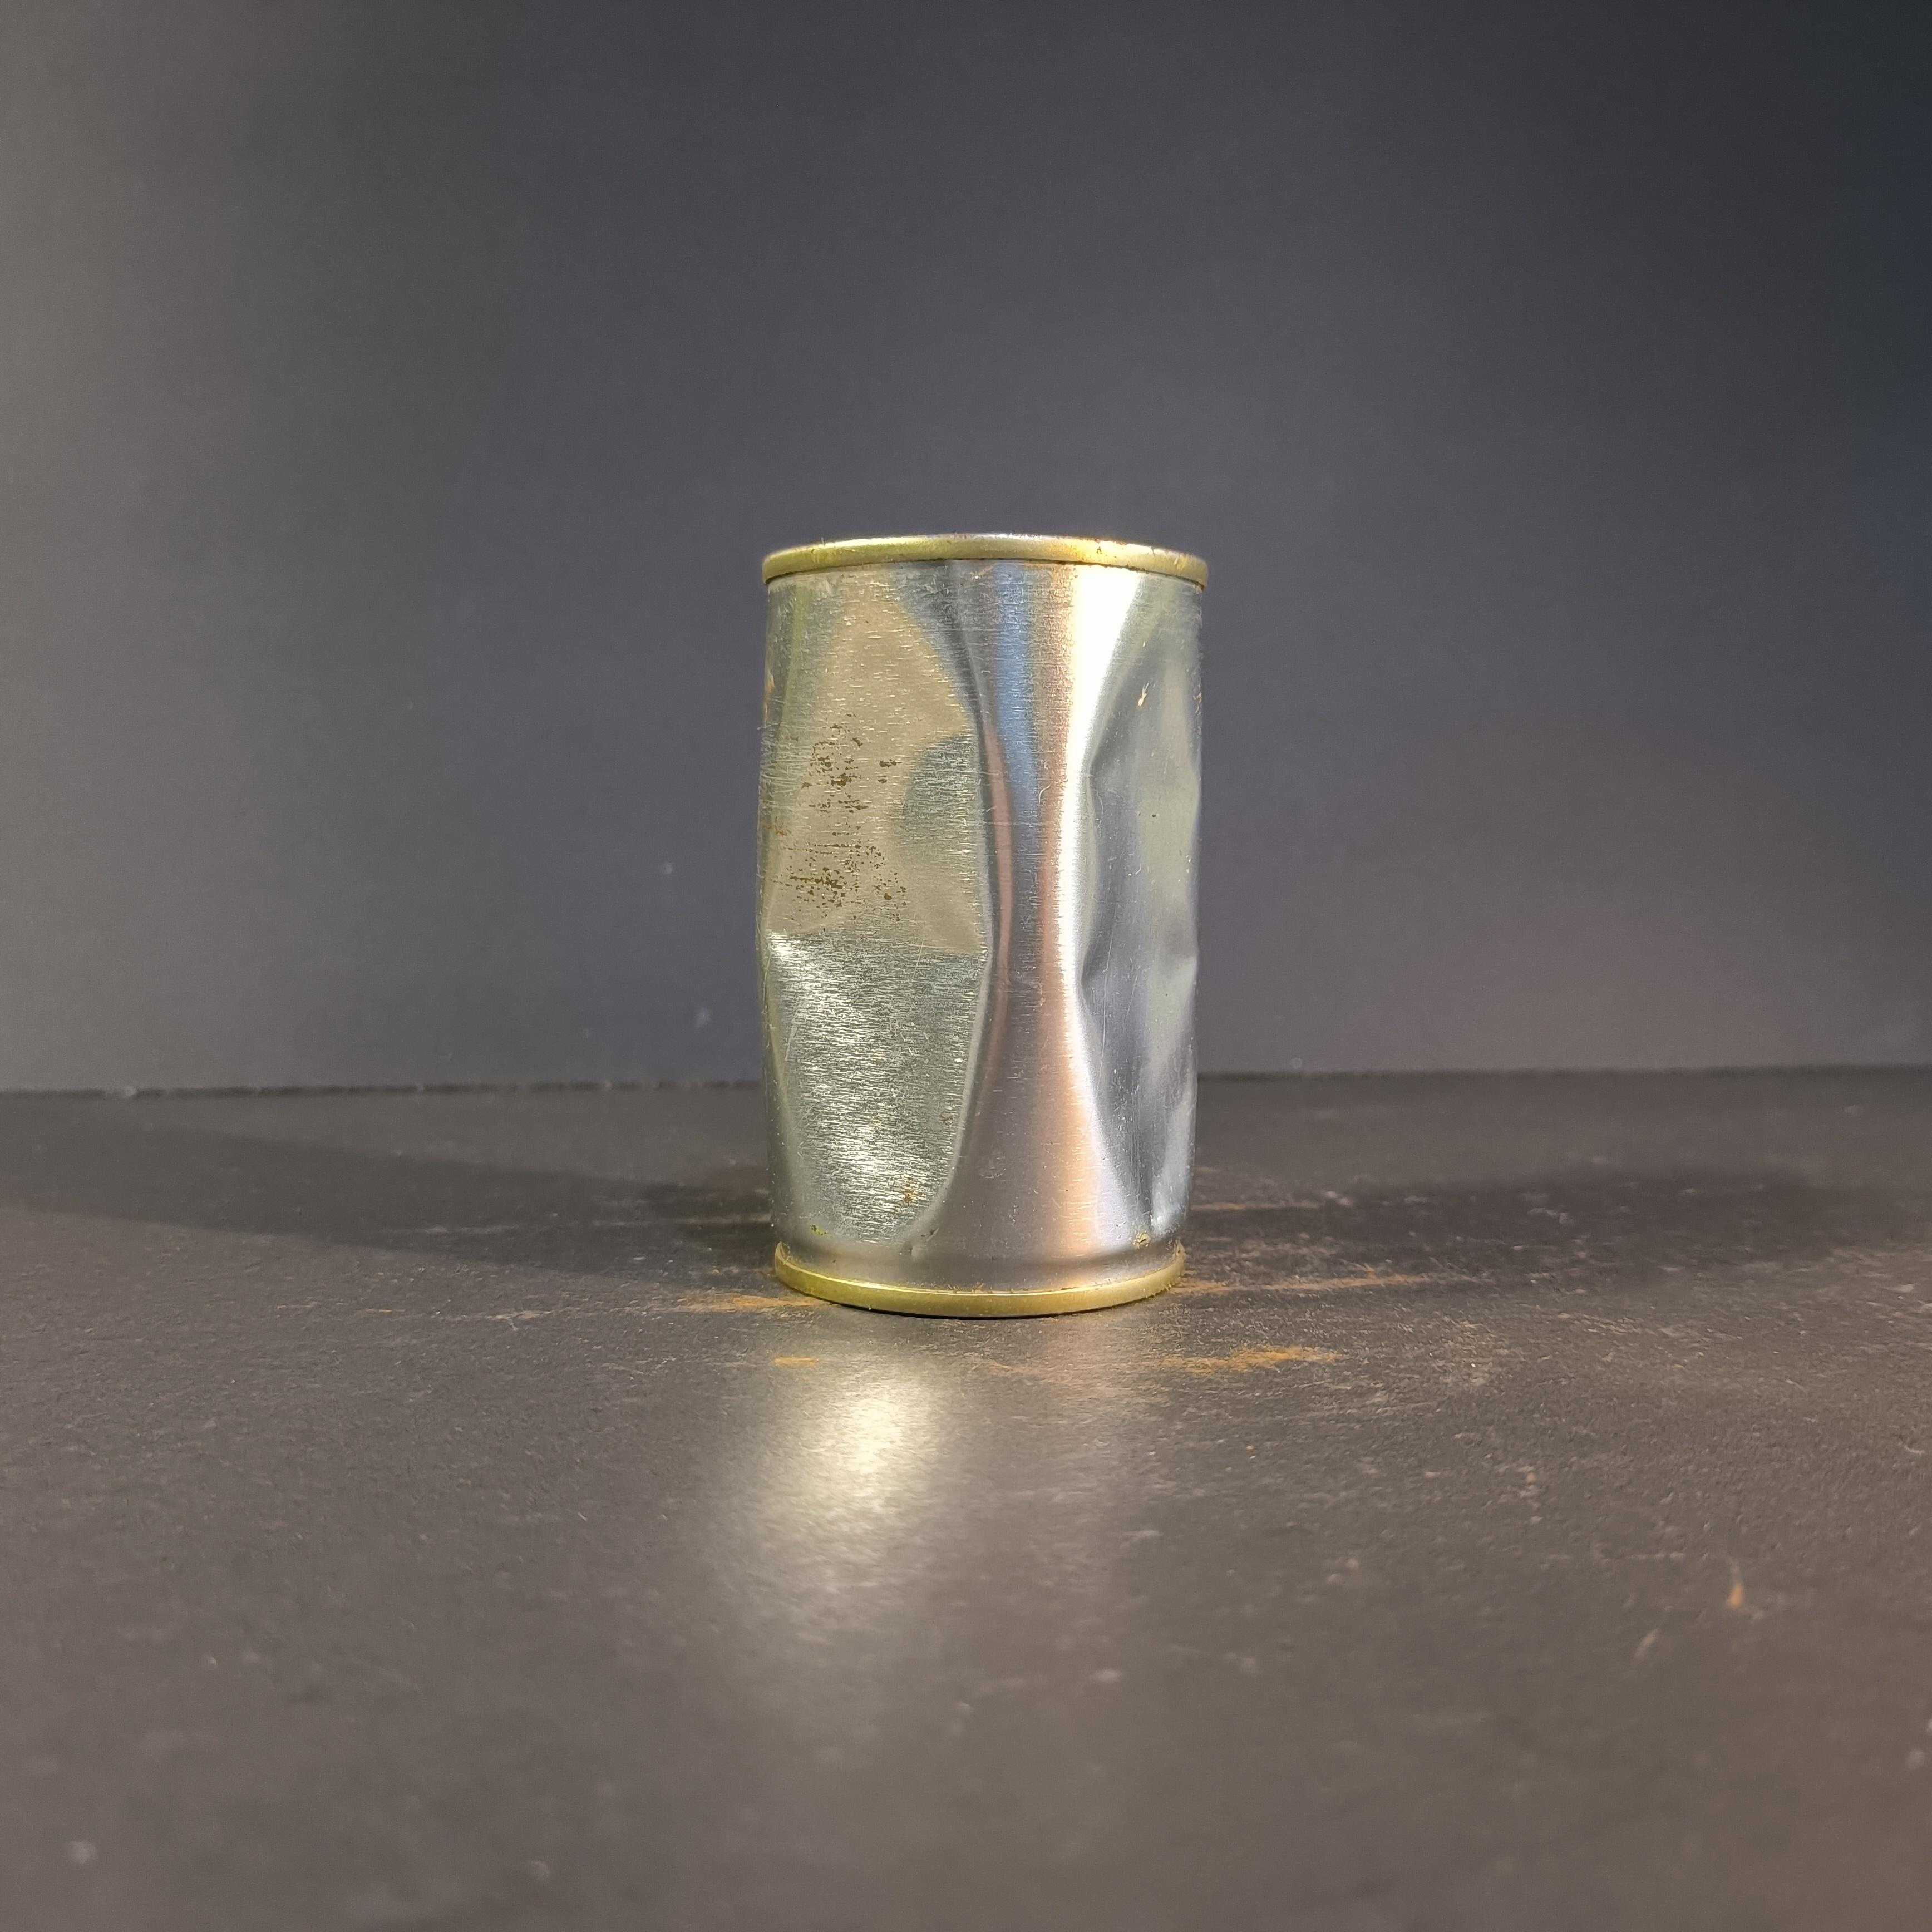Minor Defect: (758, 533, 1209, 1319)
